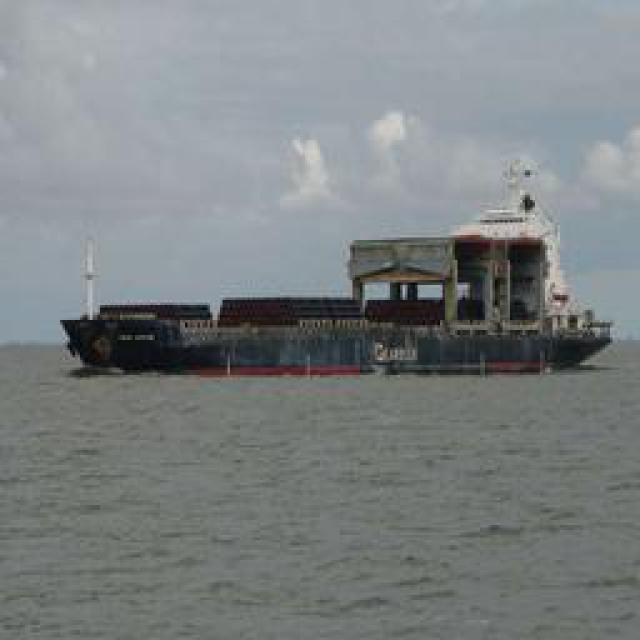Ship: (55, 165, 620, 375)
